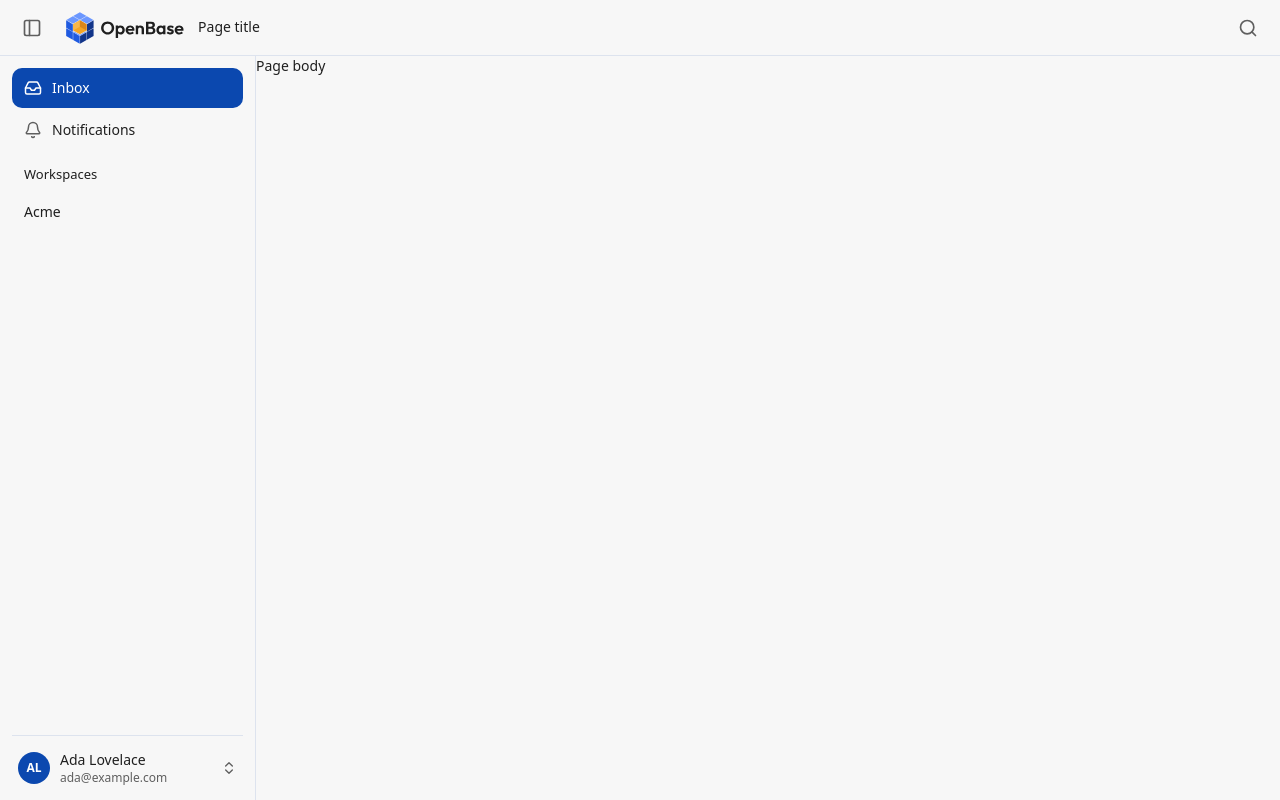
Test: ProfileMenu › goes back to the account's colour when saving one fails
This screenshot has width=1280, height=800.
Click the button with aria-label "Account menu".
click(128, 768)  # box [12,744,243,792]
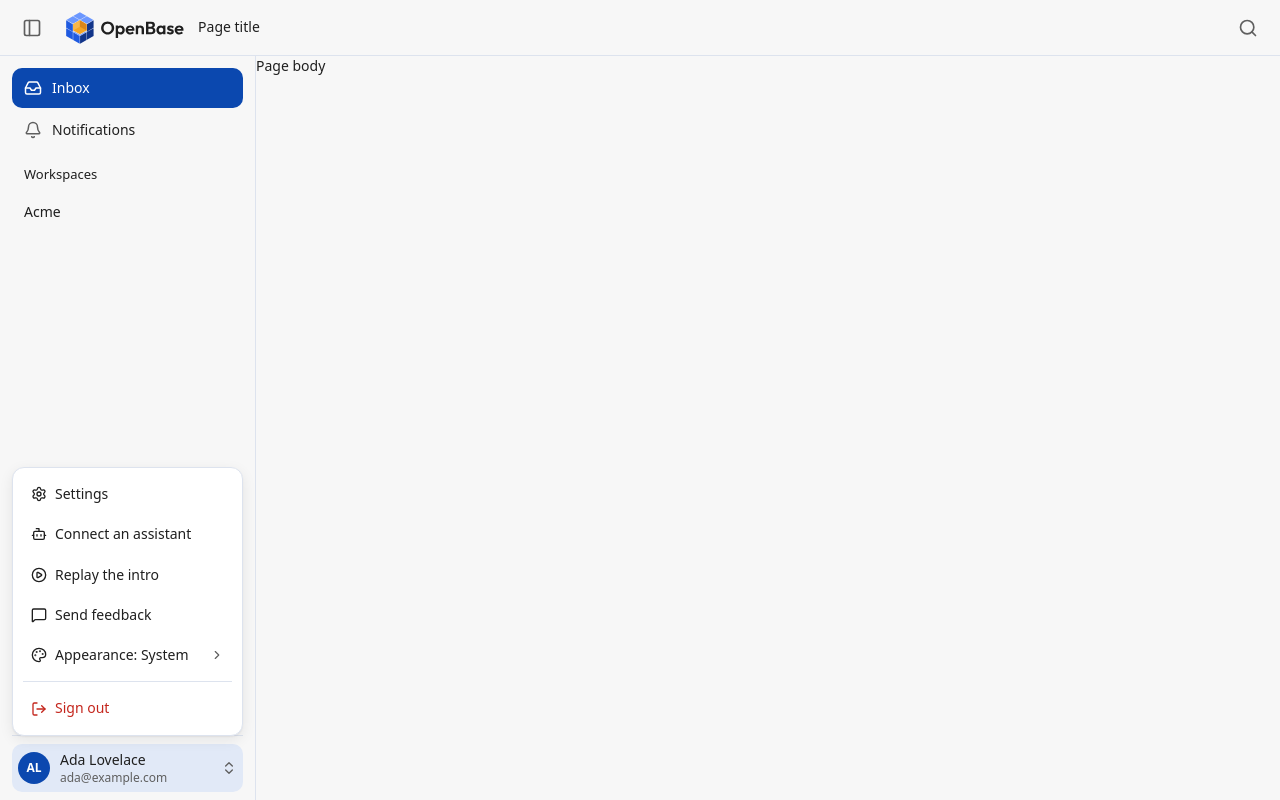
Click the menu item "Appearance: System".
click(128, 655)  # box [31,645,224,664]
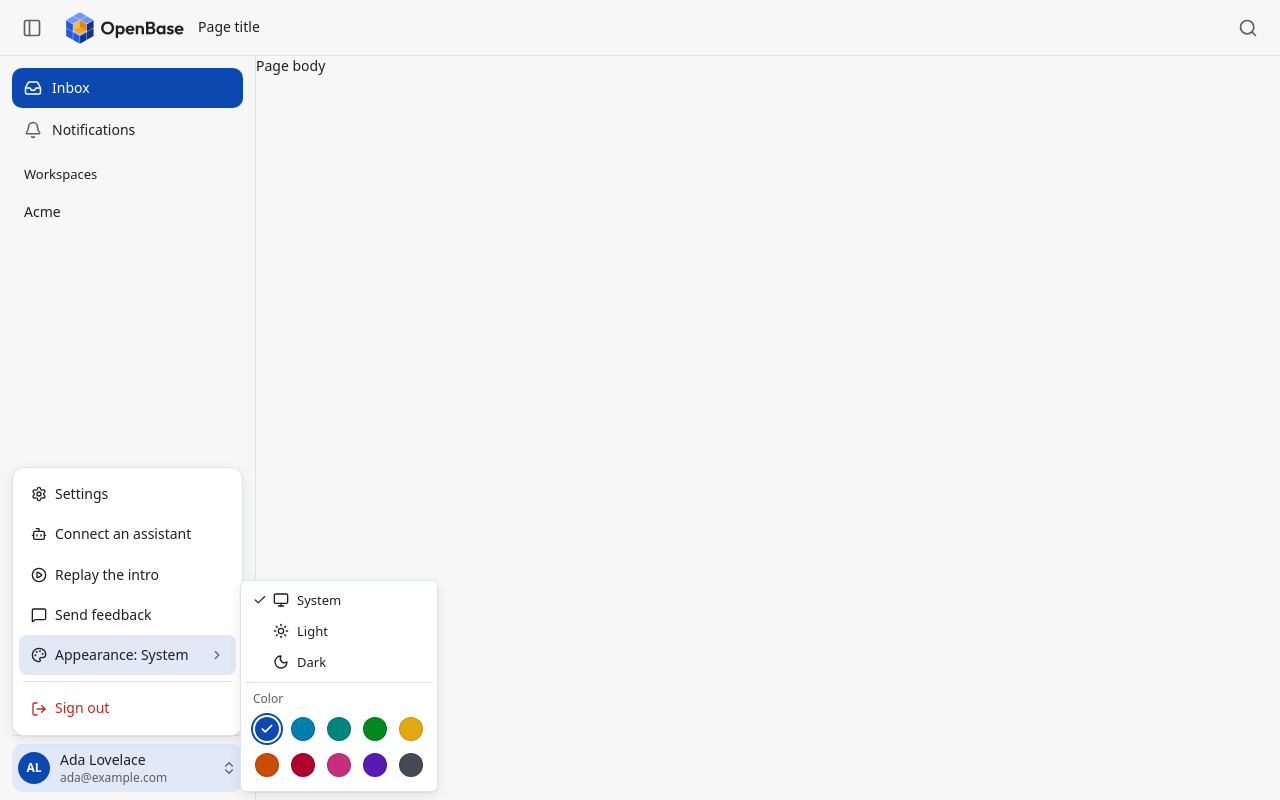
Click the menu item named "Red".
click(303, 764)  # box [291,752,315,776]
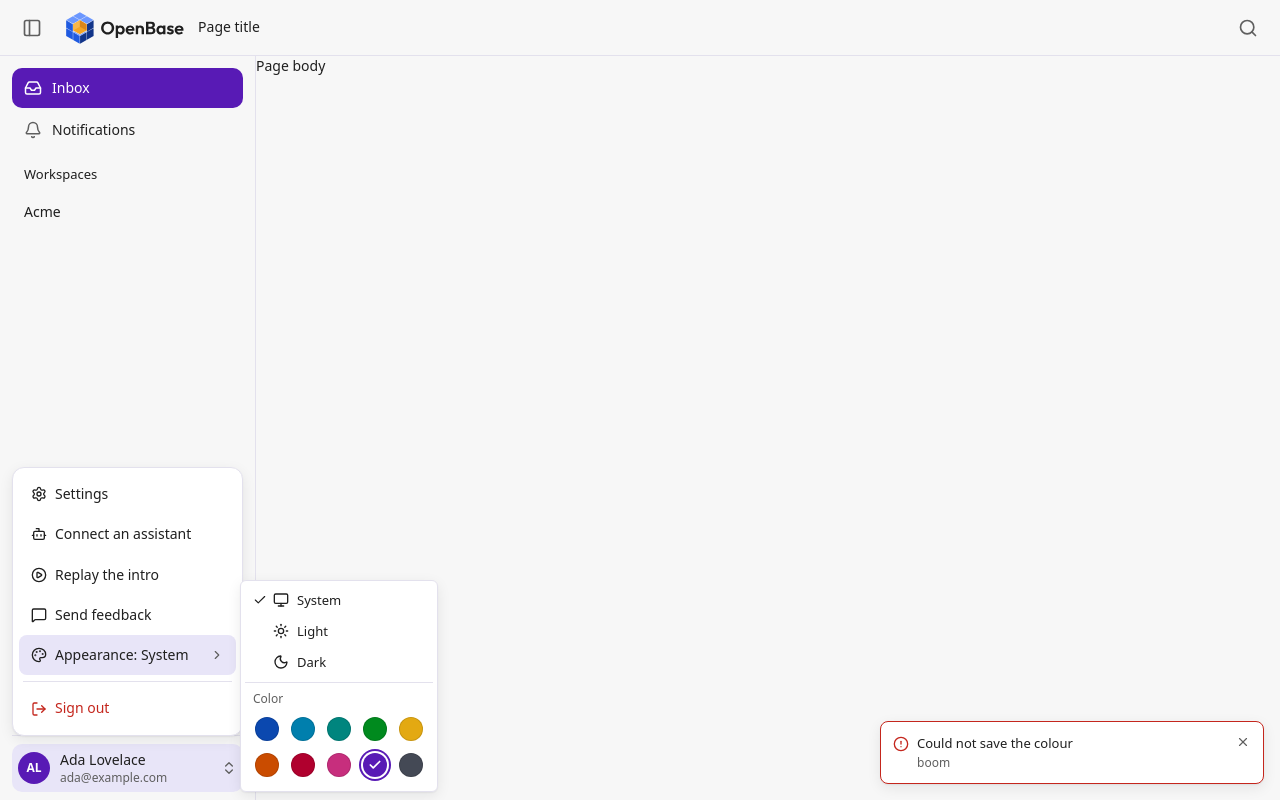
Expected: the text "Could not save the colour" is shown, [917,734,1073,752]
